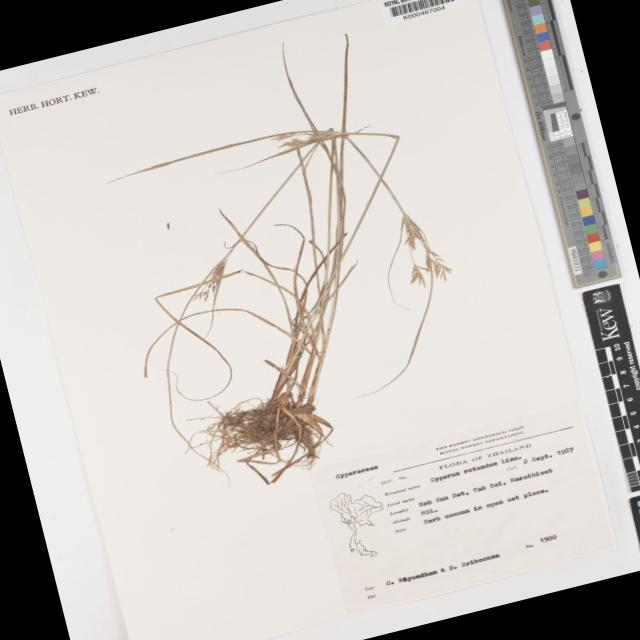cyperus: (372, 191, 482, 305)
